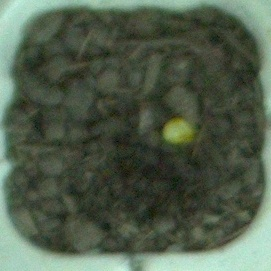pepper seed: (63, 43, 259, 188)
